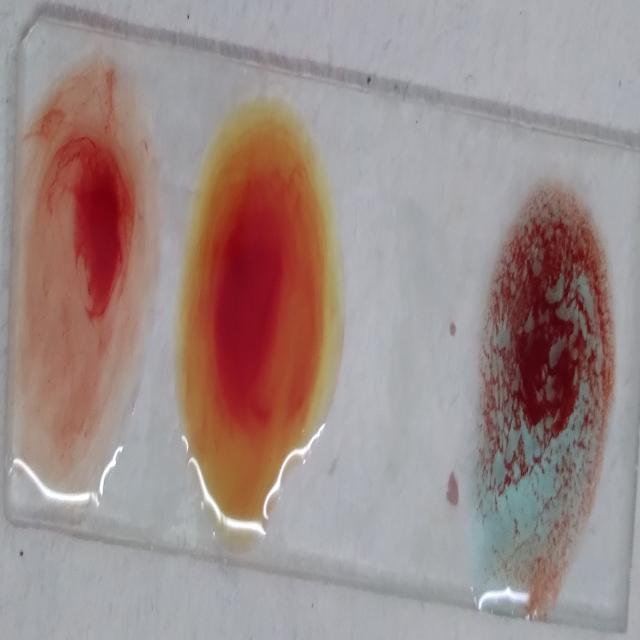A: (477, 185, 612, 610)
